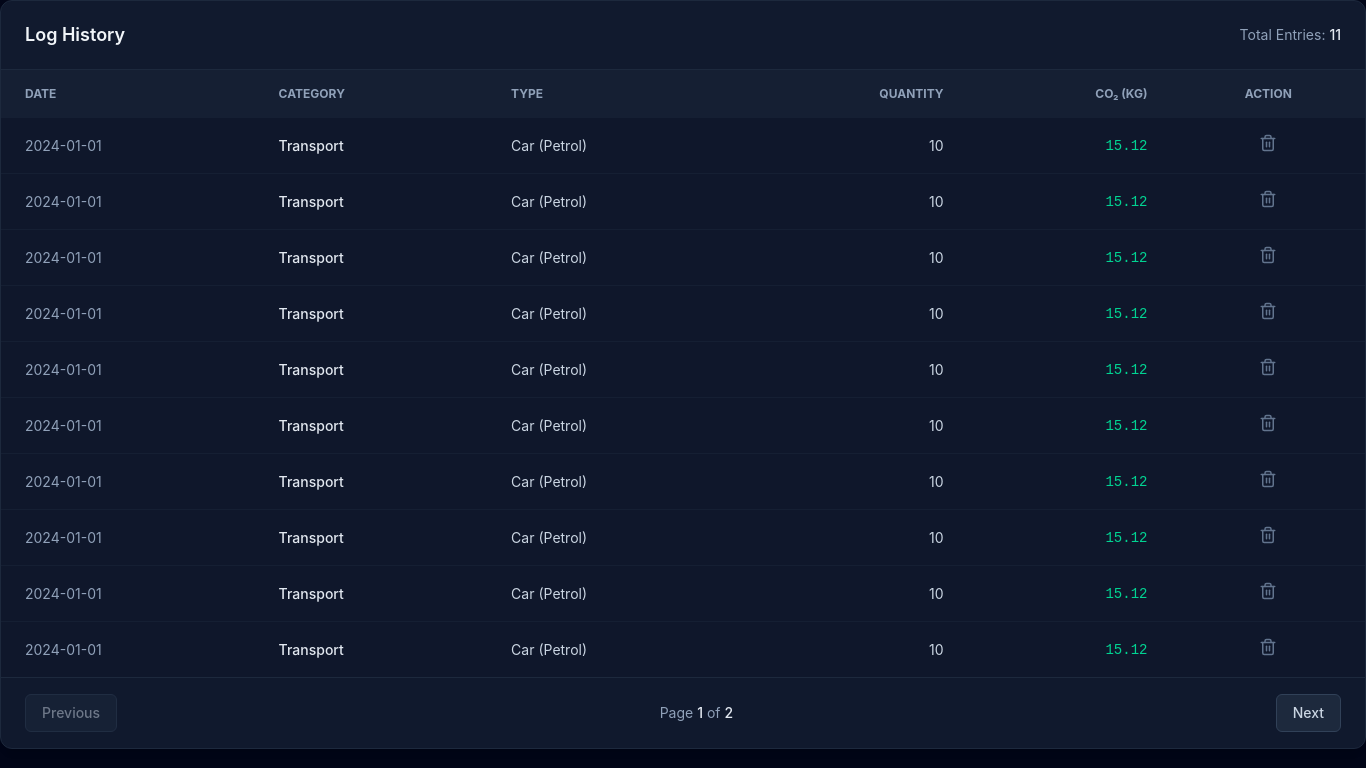
Test: LogTable › 13. Clicking Next goes to the next page
Expected: the text "9999-12-31" is not shown
Click the button "Next" at [1308, 713], box [1276,694,1341,732]
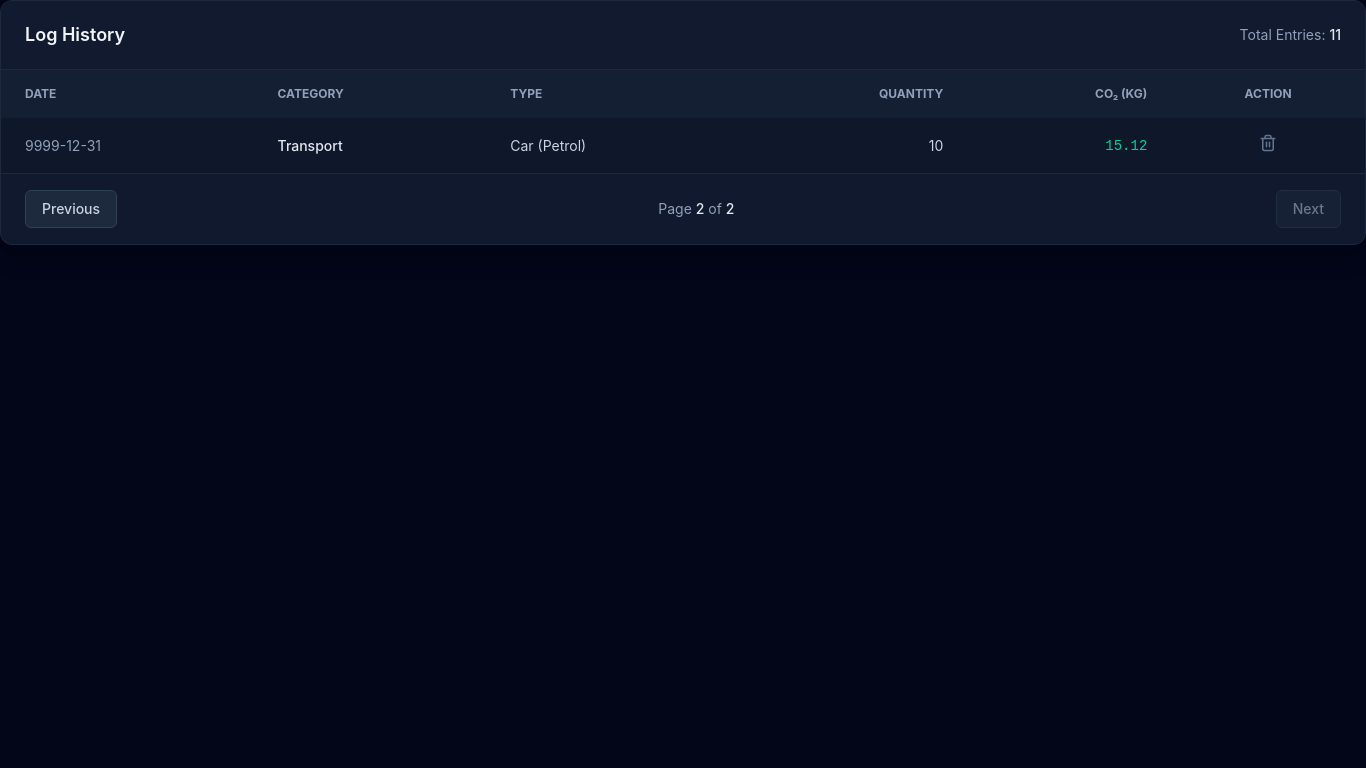
Result: the text "9999-12-31" is shown at [1,118,254,173]
